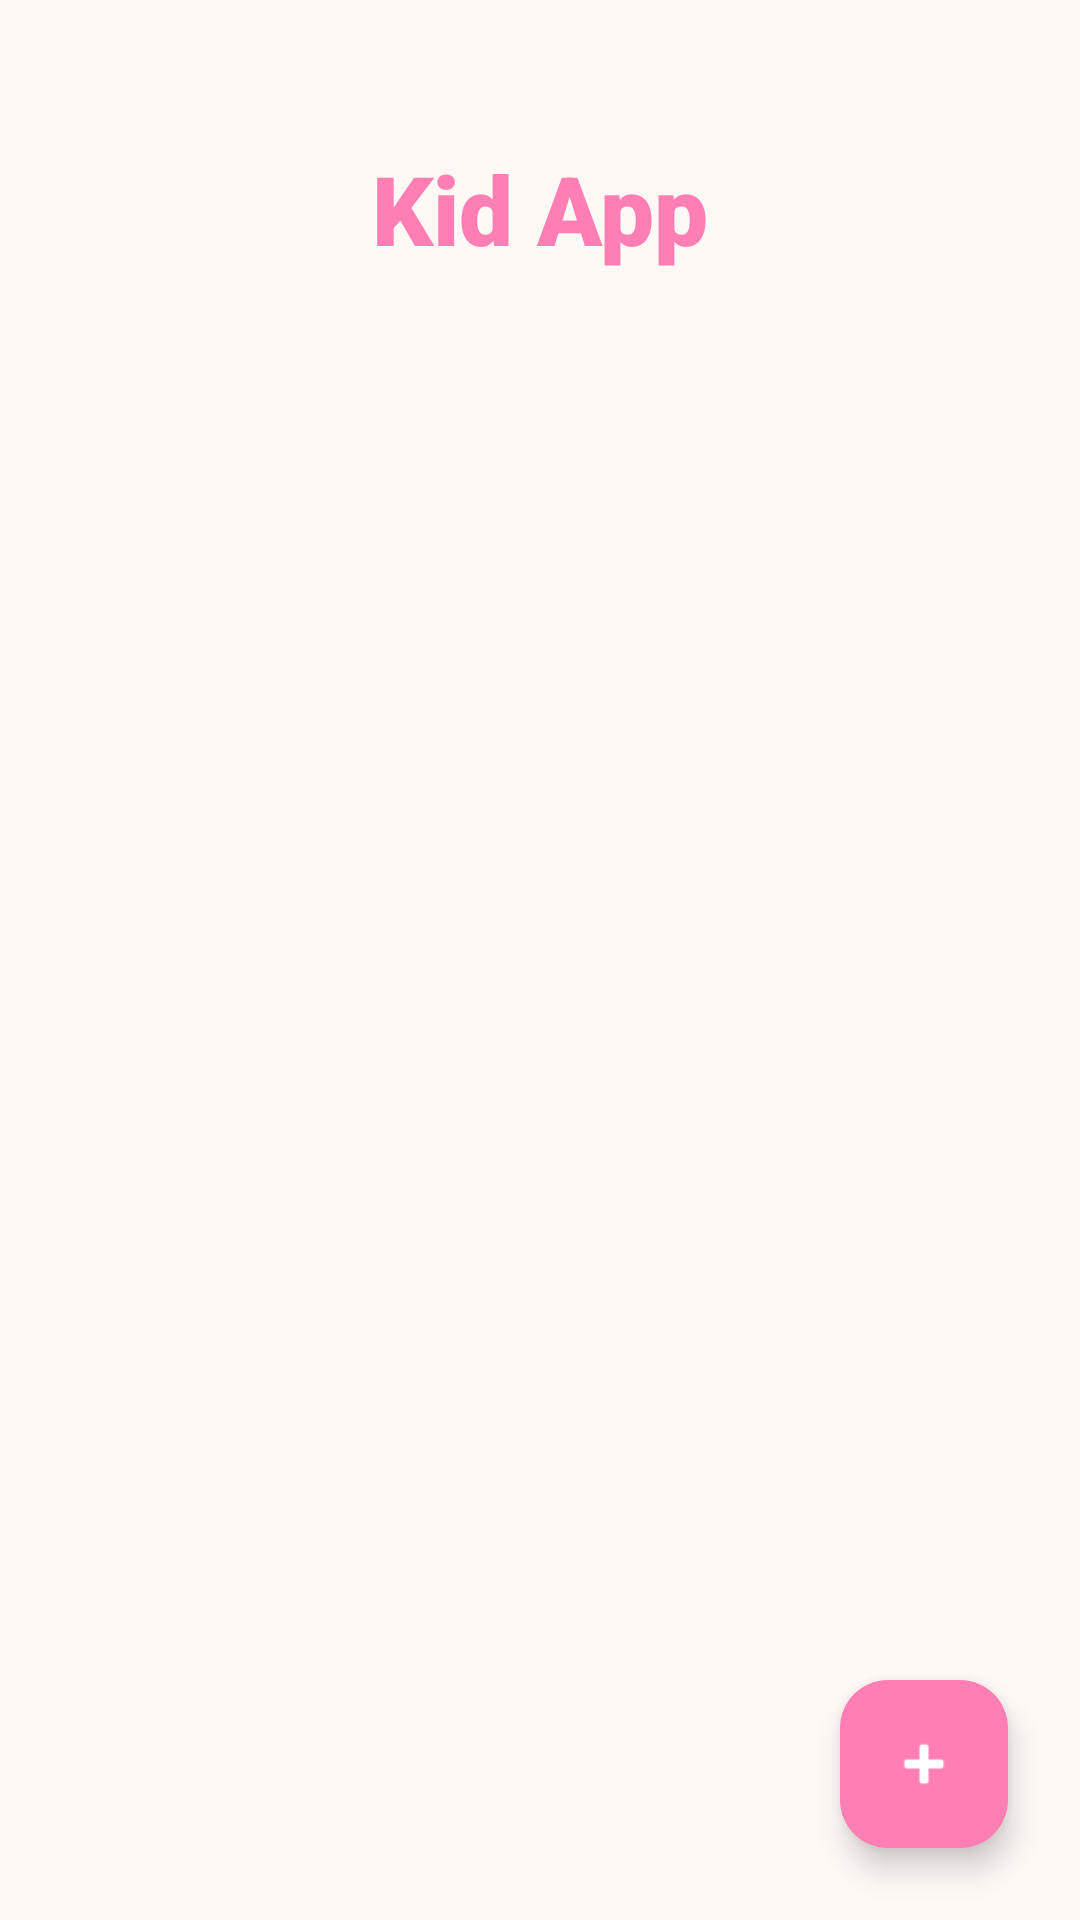

Locate icon controls on the screen. Image size 1080 × 1920, boxes as (x1, y1, x2, y2).
Tạo truyện AI: (840, 1680, 1008, 1848)
